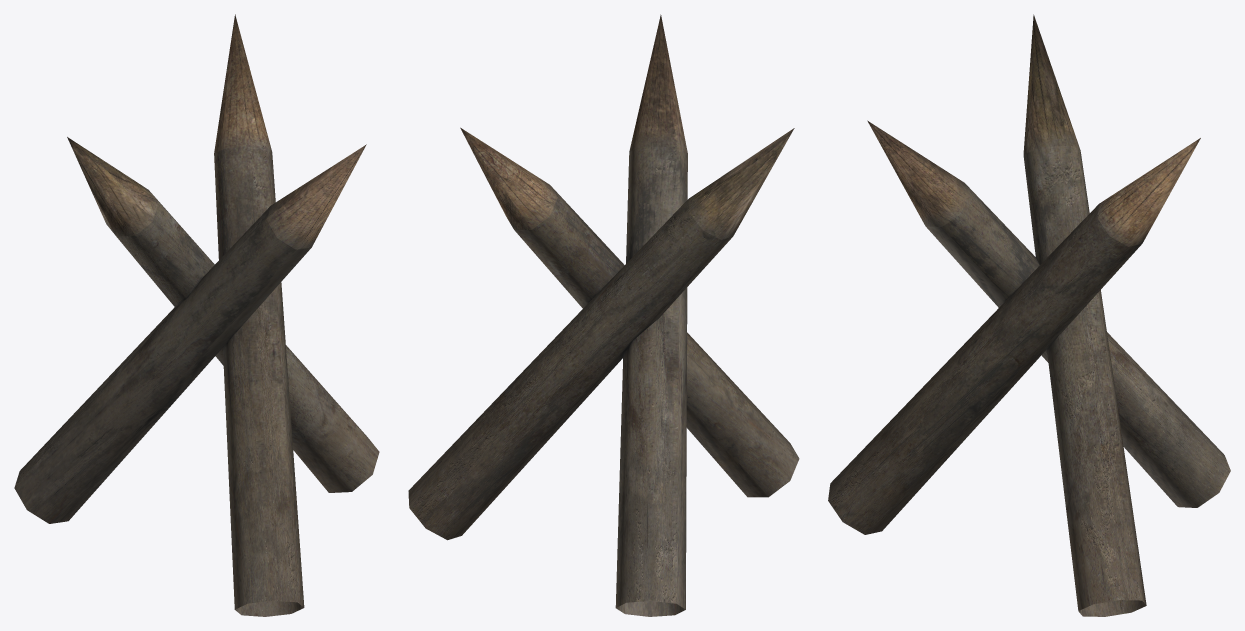
Rendered from defence_hog.FBX.
3 renders of one model, left to right at view 1: azimuth 30°, elevation 25°; view 2: azimuth 150°, elevation 25°; view 3: azimuth 270°, elevation 25°, orthographic.
Visible parts, largest first — view 1: Cone05; view 2: Cone05; view 3: Cone05.
Part boxes in pixels (left/top/right/bottom): Cone05: left=14, top=14, right=379, bottom=616; Cone05: left=408, top=14, right=799, bottom=616; Cone05: left=828, top=14, right=1230, bottom=616.
Size of the model in its own units: 227 by 287 by 230.
